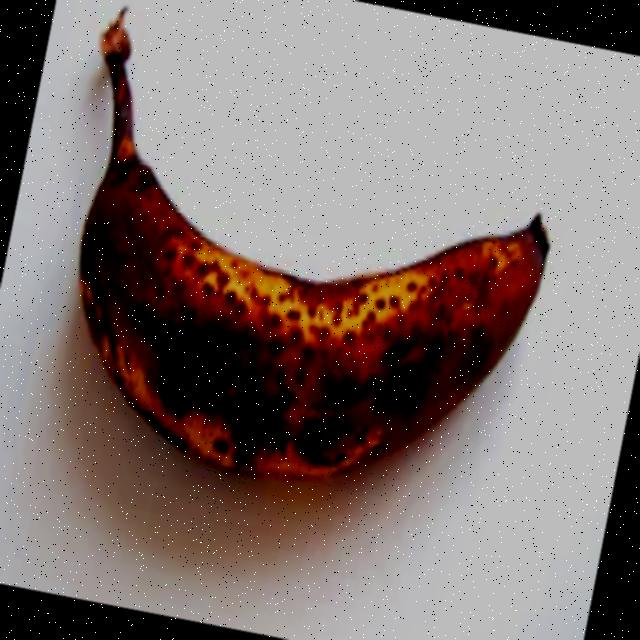Rotten: (11, 0, 591, 548)
